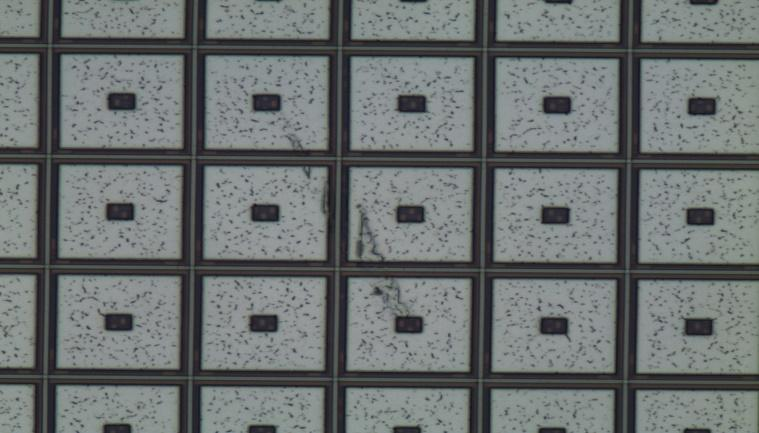PIQ PARTICLE: (273, 128, 410, 324)
